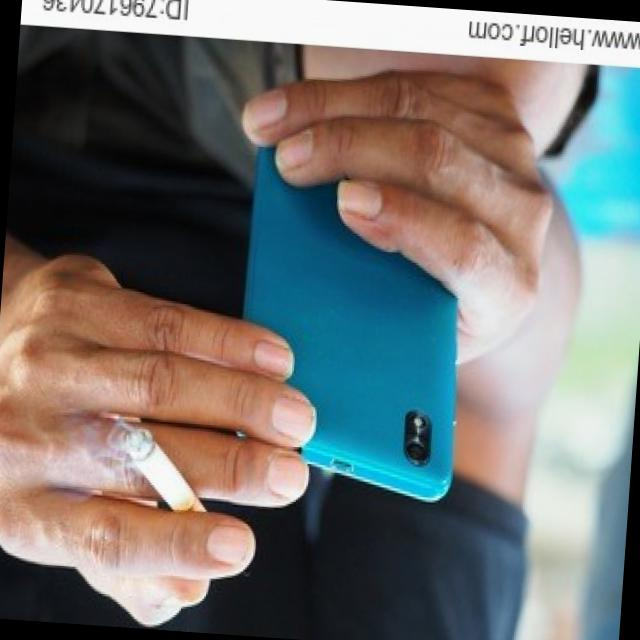smoke: (119, 426, 220, 538)
